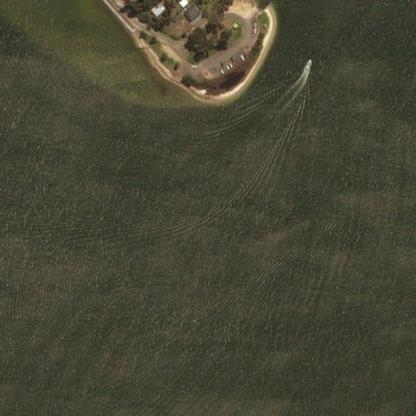ship: (291, 40, 294, 45)
